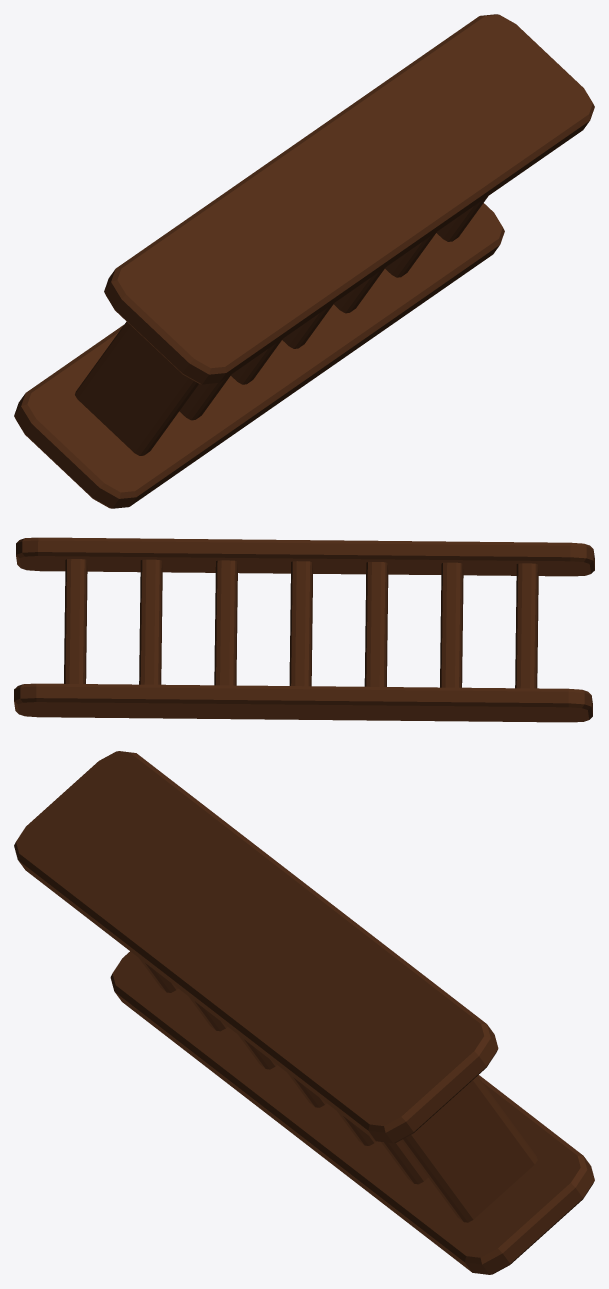
Rendered from ladder1.glb.
3 renders of one model, top to bottom at view 1: azimuth 30°, elevation 25°; view 2: azimuth 150°, elevation 25°; view 3: azimuth 270°, elevation 25°, orthographic. The views are drawn at different scales.
Visible parts, largest first — view 1: Cube.036, Cube.034, Cube.035; view 2: Cube.035, Cube.034, Cube.036; view 3: Cube.036, Cube.034, Cube.035.
Boxes of the visible parts, bbox=[...] form: Cube.036: bbox=[104, 14, 594, 384]; Cube.034: bbox=[14, 203, 504, 508]; Cube.035: bbox=[75, 196, 487, 455]; Cube.035: bbox=[64, 559, 538, 688]; Cube.034: bbox=[14, 683, 592, 722]; Cube.036: bbox=[16, 537, 594, 576]; Cube.036: bbox=[14, 751, 498, 1143]; Cube.034: bbox=[110, 951, 594, 1274]; Cube.035: bbox=[139, 958, 537, 1222].
Bounding box in the file's own units: 0.3951 × 0.1361 × 0.2891.
